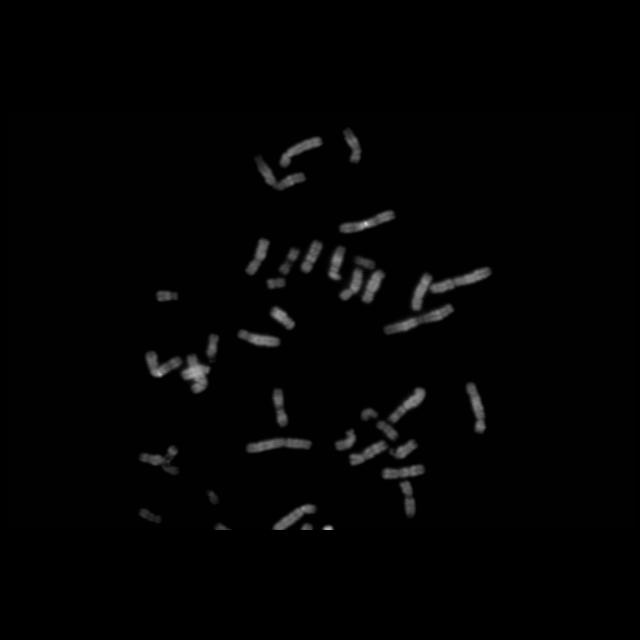chromosome: (385, 306, 453, 334), (253, 154, 304, 190), (430, 268, 490, 294), (338, 210, 396, 232), (280, 137, 322, 167), (389, 388, 426, 422), (273, 504, 315, 530), (144, 350, 182, 378), (350, 440, 388, 466), (468, 383, 486, 433), (247, 439, 311, 453), (245, 238, 269, 274), (187, 352, 206, 394), (410, 274, 432, 310), (236, 329, 280, 347), (301, 240, 323, 272), (363, 271, 385, 303), (340, 268, 362, 300), (344, 128, 362, 162), (272, 388, 288, 426), (328, 247, 346, 280), (163, 448, 183, 477), (271, 306, 295, 330), (390, 440, 418, 460), (382, 466, 424, 478), (400, 481, 414, 515), (280, 248, 298, 274), (335, 428, 355, 450), (180, 366, 210, 380), (377, 422, 397, 441), (354, 256, 376, 270), (207, 334, 219, 358), (140, 454, 162, 466), (157, 291, 178, 303), (362, 408, 378, 422), (208, 490, 220, 506), (267, 278, 285, 288)
